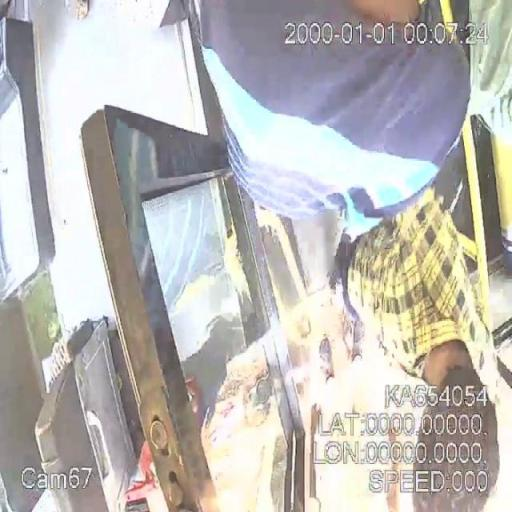persona: (192, 1, 475, 232), (333, 186, 503, 511)
